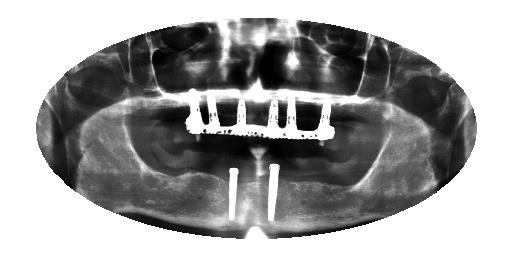Implant: (258, 96, 286, 140), (311, 99, 337, 142), (284, 96, 310, 138), (265, 161, 282, 223), (228, 100, 257, 136), (204, 89, 226, 135), (185, 86, 205, 136), (227, 167, 240, 222)
